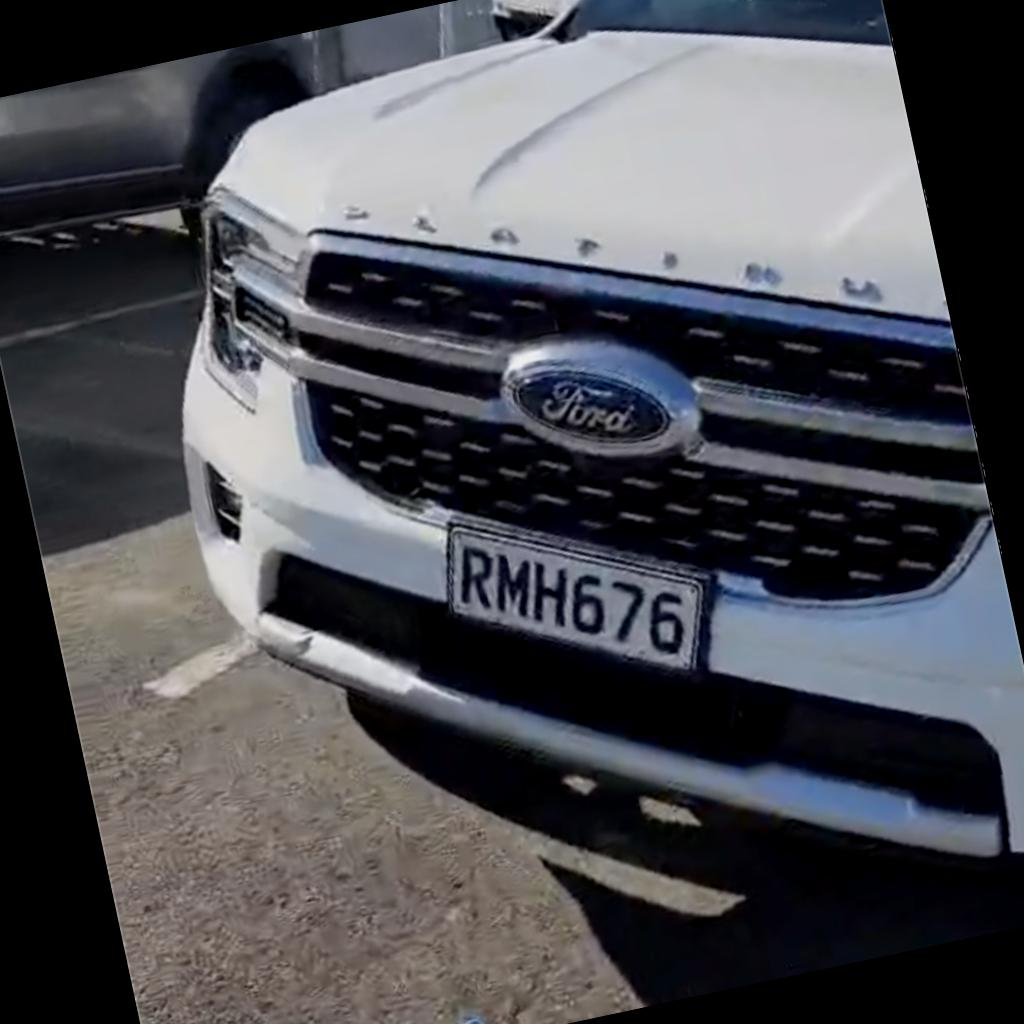Number-Plates: (430, 510, 730, 697)
